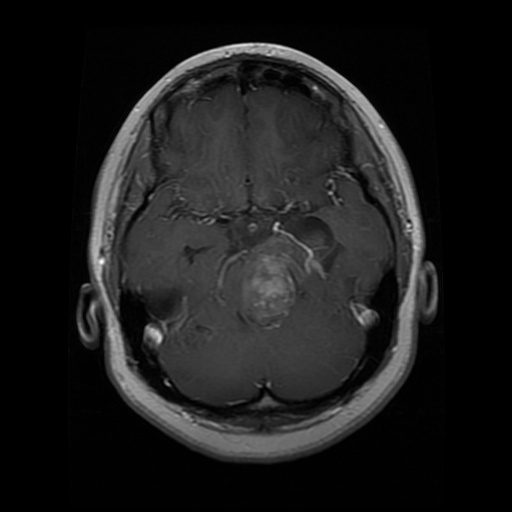glioma: (241, 248, 293, 315)
